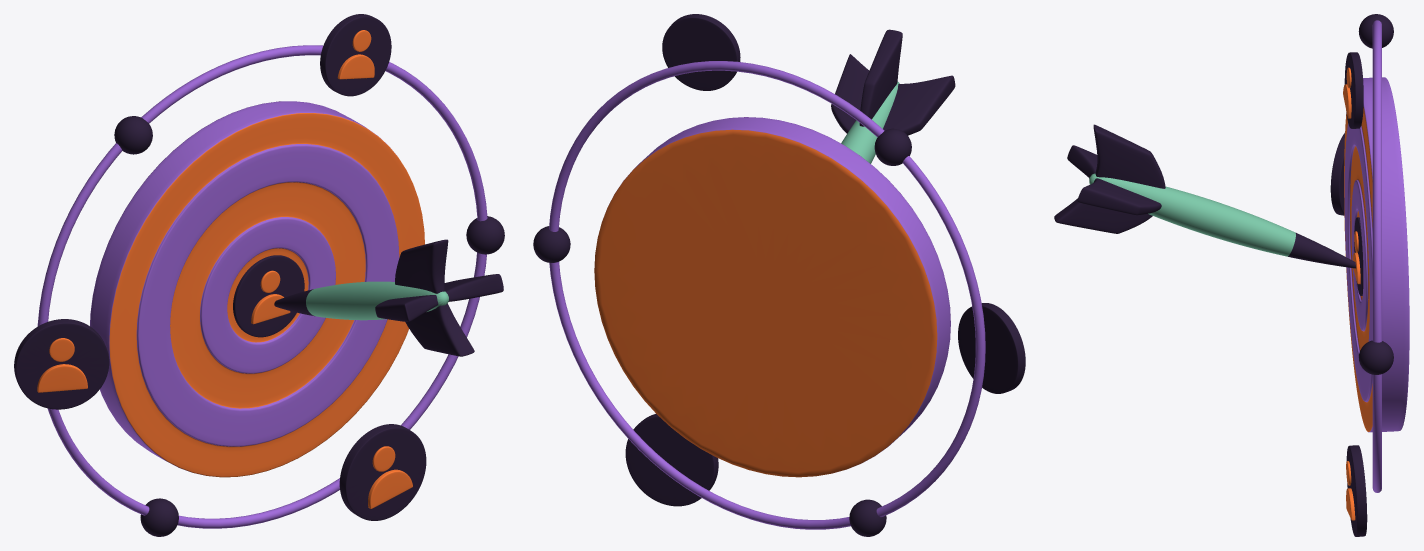
The model's file is target-audience-3d-animated-icon-1016455169558.glb.
3 renders of one model, left to right at view 1: azimuth 30°, elevation 25°; view 2: azimuth 150°, elevation 25°; view 3: azimuth 270°, elevation 25°, orthographic. The views are drawn at different scales.
Parts seen in each view (by area): view 1: Cylinder, NurbsCircle, Arrow, Audience 3, Audience 1, Audience 2, Audience, Sphere.001, Sphere, Sphere.002; view 2: Cylinder, NurbsCircle, Arrow, Audience 1, Audience 2, Audience 3, Sphere.001, Sphere, Sphere.002; view 3: Cylinder, Arrow, NurbsCircle, Audience 1, Audience 2, Sphere, Audience 3, Sphere.001, Audience.
Part boxes in pixels (x1,y1,x2,y2): Cylinder: [90, 101, 424, 477]; NurbsCircle: [37, 45, 487, 528]; Arrow: [274, 239, 503, 356]; Audience 3: [14, 319, 109, 409]; Audience 1: [339, 424, 426, 520]; Audience 2: [320, 14, 391, 96]; Audience: [233, 255, 304, 337]; Sphere.001: [114, 116, 152, 154]; Sphere: [466, 216, 504, 254]; Sphere.002: [140, 498, 178, 536]; Cylinder: [594, 117, 950, 477]; NurbsCircle: [549, 61, 985, 529]; Arrow: [831, 29, 955, 163]; Audience 1: [625, 414, 718, 506]; Audience 2: [662, 14, 740, 90]; Audience 3: [958, 303, 1025, 393]; Sphere.001: [874, 128, 911, 165]; Sphere: [533, 226, 570, 262]; Sphere.002: [849, 499, 886, 536]; Cylinder: [1344, 77, 1409, 432]; Arrow: [1054, 124, 1355, 268]; NurbsCircle: [1372, 20, 1381, 492]; Audience 1: [1346, 445, 1367, 536]; Audience 2: [1343, 52, 1363, 128]; Sphere: [1359, 340, 1393, 374]; Audience 3: [1330, 133, 1344, 215]; Sphere.001: [1358, 14, 1393, 48]; Audience: [1353, 217, 1363, 295].
Size of the model in its own units: 1.79 by 1.76 by 1.22.
